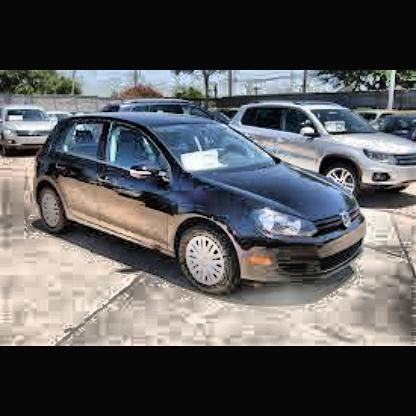Volkswagen Golf Hatchback 2012: (33, 105, 370, 295)
